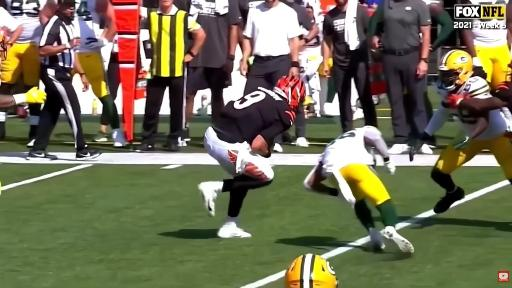Helmet: (285, 254, 337, 287), (439, 50, 473, 90), (274, 76, 305, 109)
Jersey: (214, 88, 294, 144), (320, 129, 374, 171), (4, 0, 46, 43), (74, 0, 103, 52), (472, 19, 507, 46), (477, 110, 507, 139), (301, 22, 322, 56)
Player: (199, 76, 305, 237), (422, 50, 511, 213), (304, 126, 413, 253), (75, 0, 125, 147), (76, 0, 125, 146), (462, 0, 511, 89), (0, 0, 39, 94), (299, 5, 322, 116), (285, 254, 338, 287), (0, 88, 46, 107), (491, 73, 511, 112)
